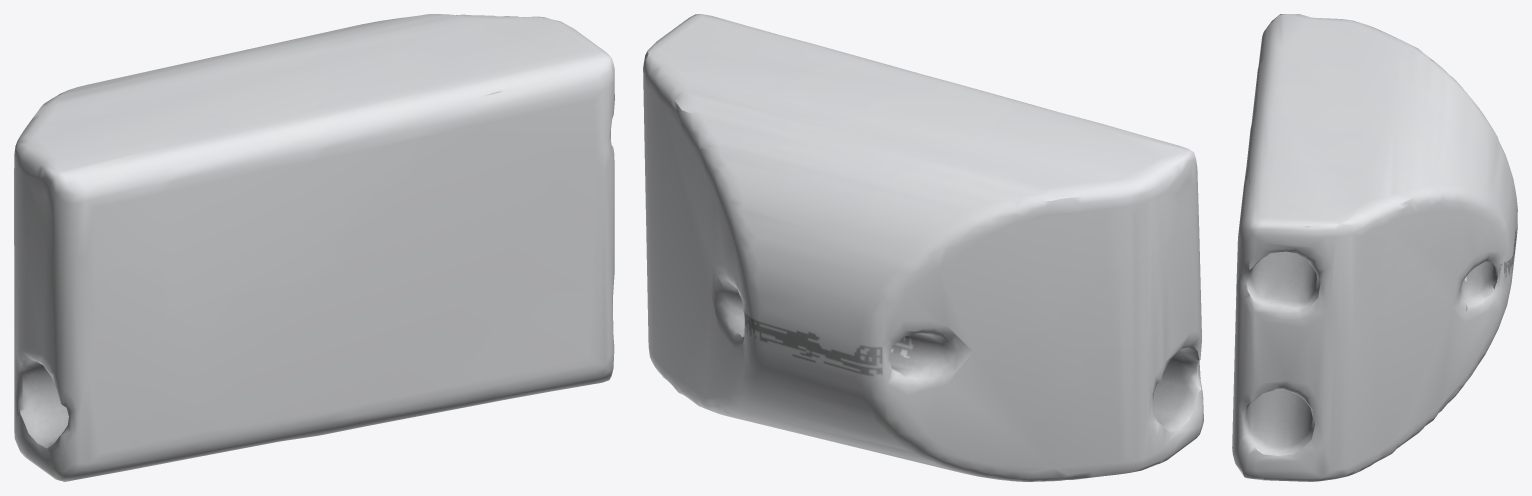
Rendered from left_thomb_midle.obj.
3 views of the same model, side by side, from view 1: azimuth 30°, elevation 25°; view 2: azimuth 150°, elevation 25°; view 3: azimuth 270°, elevation 25° (orthographic). The views are drawn at different scales.
Parts seen in each view (by area): view 1: left_thomb_midle; view 2: left_thomb_midle; view 3: left_thomb_midle.
Boxes of the visible parts, left/top/right/bottom form: left_thomb_midle: left=14, top=14, right=614, bottom=481; left_thomb_midle: left=643, top=14, right=1203, bottom=481; left_thomb_midle: left=1232, top=14, right=1517, bottom=481.
Bounding box in the file's own units: 0.0253 × 0.0143 × 0.0141.
1 material, 1 textured.
